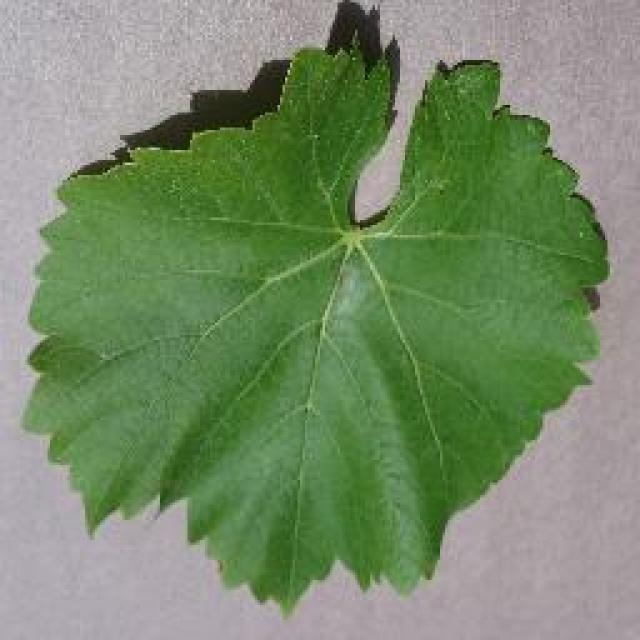Grape___healthy: (25, 48, 605, 608)
